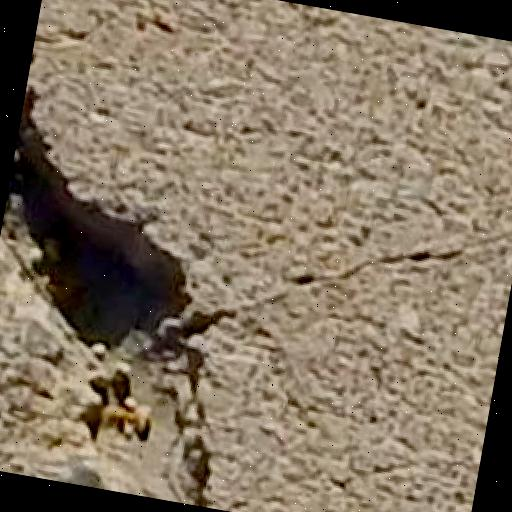spalling: (1, 73, 271, 508)
